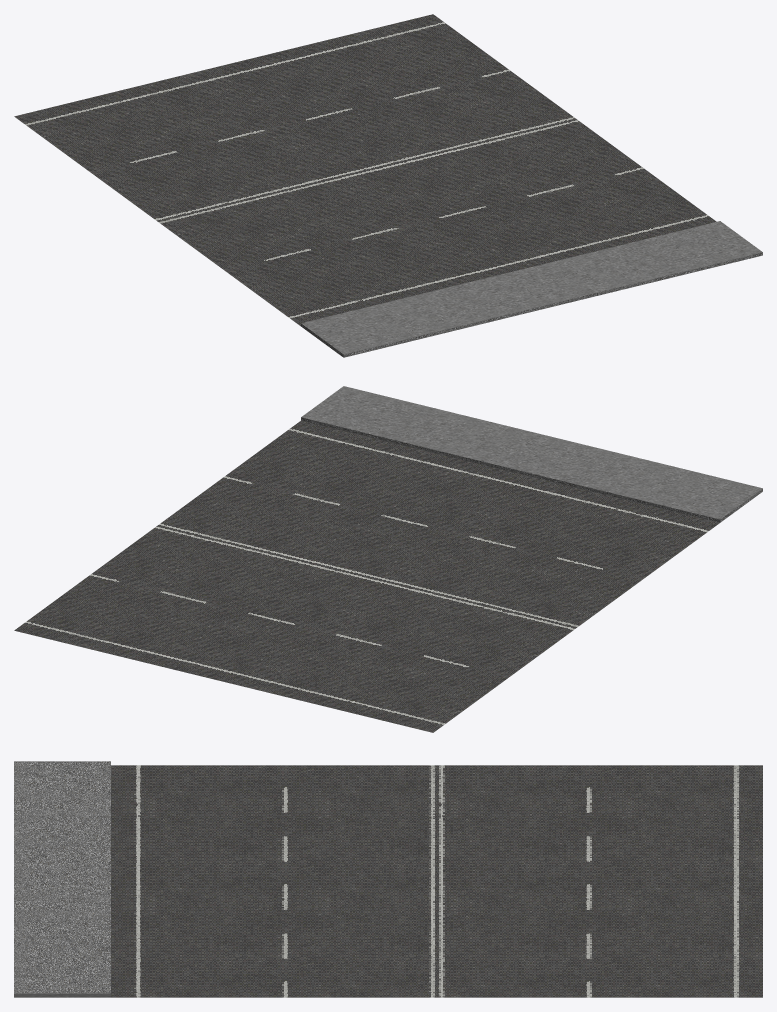
Rendered from Highway_Join_1.glb.
3 renders of one model, top to bottom at view 1: azimuth 30°, elevation 25°; view 2: azimuth 150°, elevation 25°; view 3: azimuth 270°, elevation 25°, orthographic. The views are drawn at different scales.
Visible parts, largest first — view 1: Highway_Join_1; view 2: Highway_Join_1; view 3: Highway_Join_1.
Boxes of the visible parts, x1=… form: Highway_Join_1: x1=14, y1=14, x2=762, y2=357; Highway_Join_1: x1=14, y1=386, x2=762, y2=732; Highway_Join_1: x1=14, y1=761, x2=762, y2=997.
Bounding box in the file's own units: 15.79 × 0.1182 × 21.5.
2 materials, 2 textured.
